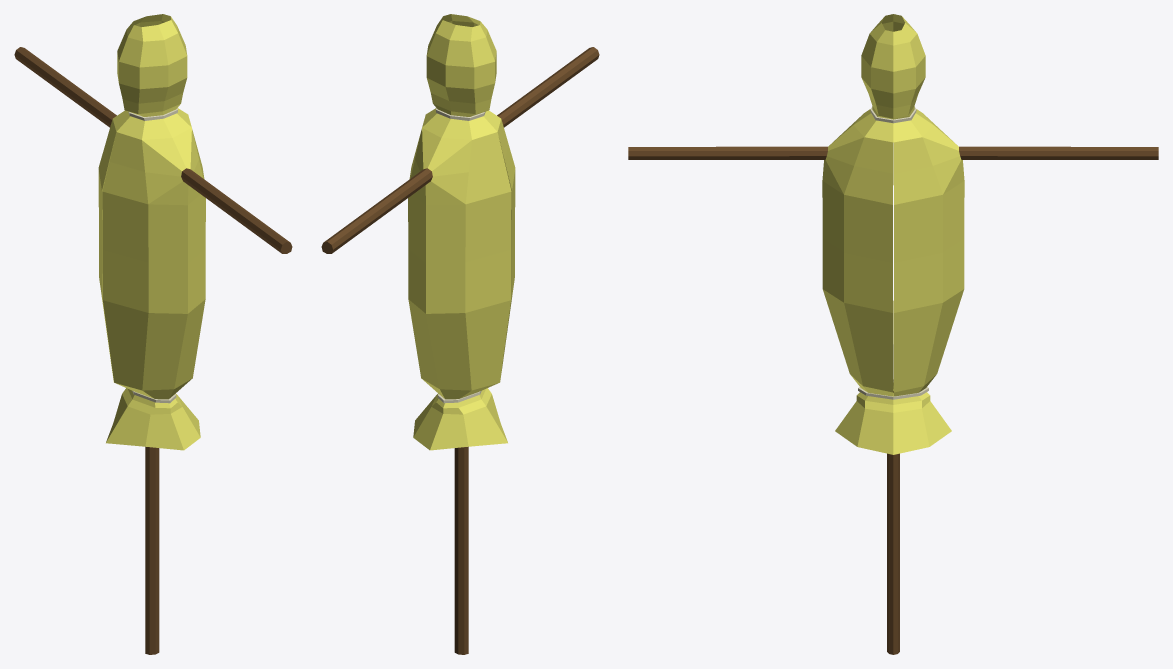
The model's file is training_dummyfbx.fbx.
3 views of the same model, side by side, from view 1: azimuth 30°, elevation 25°; view 2: azimuth 150°, elevation 25°; view 3: azimuth 270°, elevation 25° (orthographic).
Visible parts, largest first — view 1: Trainingdummy; view 2: Trainingdummy; view 3: Trainingdummy.
Part boxes in pixels (<box>): Trainingdummy: <box>14,14,292,654</box>; Trainingdummy: <box>321,14,599,654</box>; Trainingdummy: <box>628,14,1158,654</box>.
Bounding box in the file's own units: 26.24 × 158 × 121.
